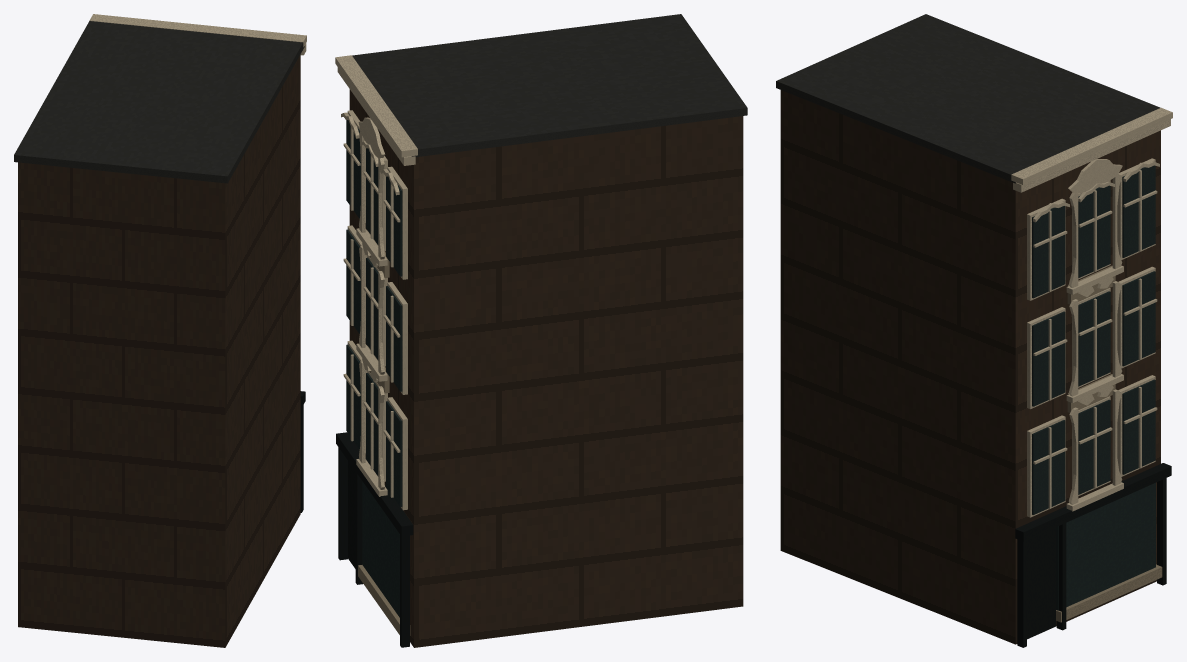
3 renders of one model, left to right at view 1: azimuth 30°, elevation 25°; view 2: azimuth 150°, elevation 25°; view 3: azimuth 270°, elevation 25°, orthographic. The views are drawn at different scales.
Parts seen in each view (by area): view 1: oppert93-0, oppert93-1, oppert93-2, oppert93-5; view 2: oppert93-0, oppert93-1, oppert93-2, oppert93-3, oppert93-5, oppert93-4; view 3: oppert93-0, oppert93-1, oppert93-3, oppert93-2, oppert93-5, oppert93-4.
Part boxes in pixels (x1,y1,x2,y2): oppert93-0: [18, 54, 300, 647]; oppert93-1: [14, 21, 304, 183]; oppert93-2: [89, 14, 306, 55]; oppert93-5: [300, 391, 305, 512]; oppert93-0: [349, 89, 743, 647]; oppert93-1: [352, 14, 747, 157]; oppert93-2: [335, 55, 417, 510]; oppert93-3: [346, 120, 402, 617]; oppert93-5: [336, 432, 413, 647]; oppert93-4: [358, 230, 410, 635]; oppert93-0: [780, 90, 1160, 644]; oppert93-1: [776, 14, 1160, 183]; oppert93-3: [1032, 165, 1155, 610]; oppert93-2: [1011, 107, 1172, 517]; oppert93-5: [1015, 463, 1171, 647]; oppert93-4: [1056, 265, 1162, 622].
Size of the model in its own units: 12.13 by 16.05 by 12.28.
Materials: 6 (6 with a texture image).
